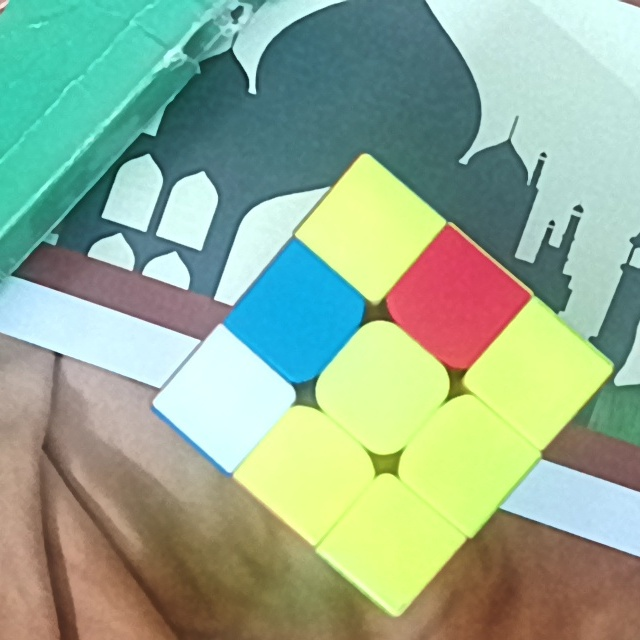tile: (429, 419, 506, 495), (499, 336, 575, 412), (331, 192, 409, 265), (274, 432, 349, 507), (357, 506, 429, 581), (346, 348, 421, 419), (259, 282, 335, 351), (421, 264, 491, 334), (191, 368, 263, 432)
